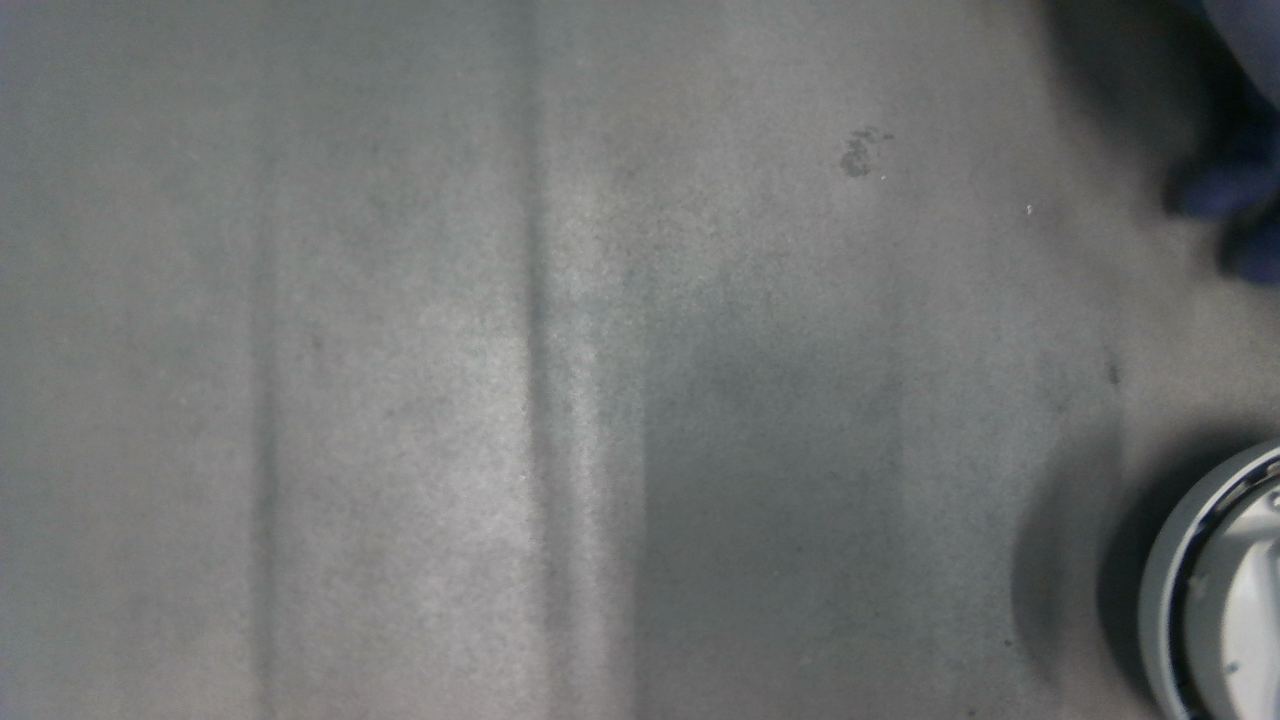HexScrew: (1271, 493, 1279, 513)
